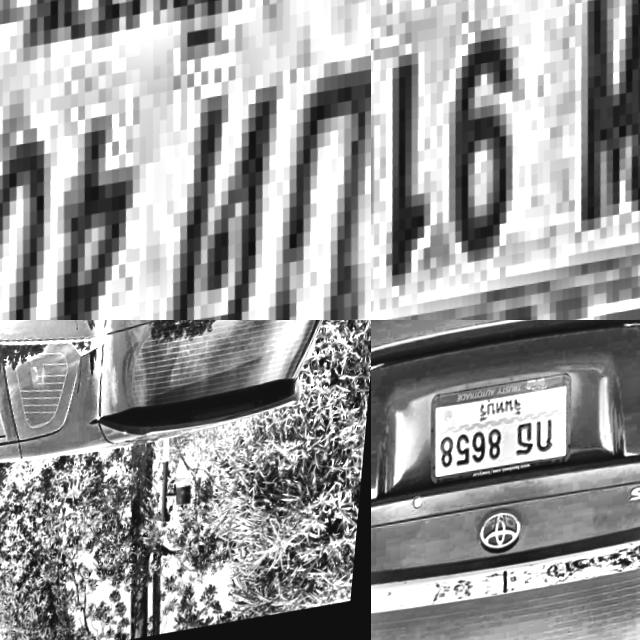license-plate: (0, 0, 371, 320), (371, 0, 640, 320), (428, 379, 584, 497)
